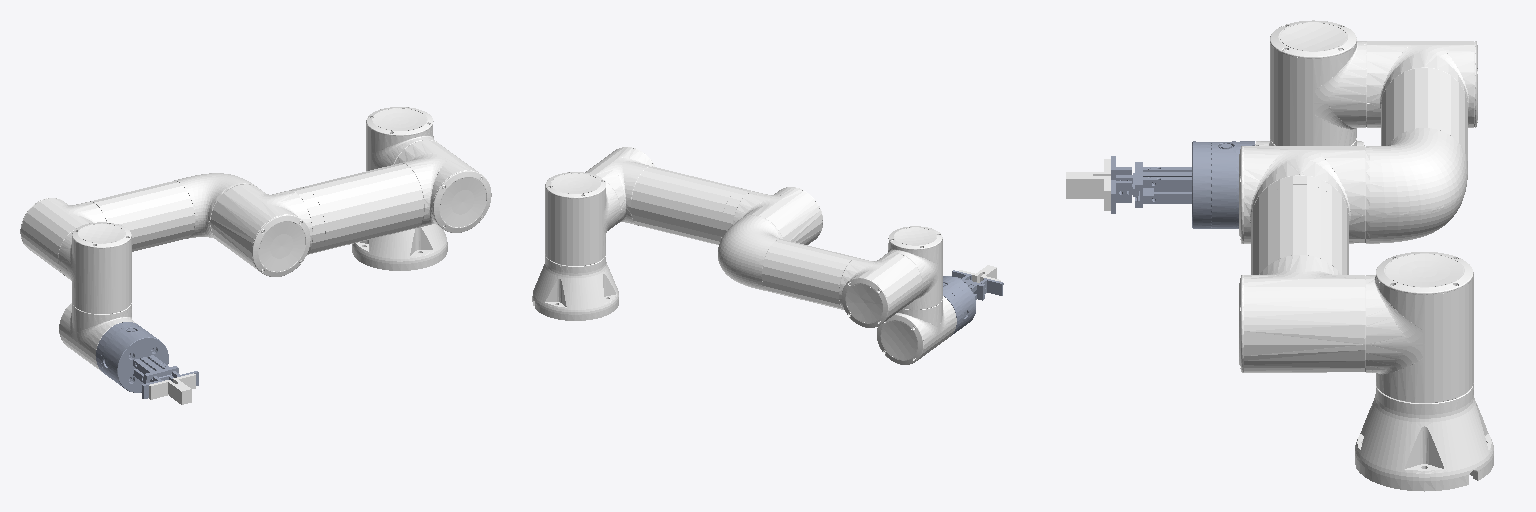
robot.urdf — fairino_arm_moveit_descriptions:
<?xml version="1.0" encoding="utf-8"?>
<!-- This URDF was automatically created by SolidWorks to URDF Exporter! Originally created by Stephen Brawner (brawner@gmail.com) 
     Commit Version: 1.6.0-4-g7f85cfe  Build Version: 1.6.7995.38578
     For more information, please see http://wiki.ros.org/sw_urdf_exporter -->
<robot
  name="fairino_arm_moveit_descriptions">

  <link name="world" />
  <joint name="world_joint" type="fixed">
    <parent link="world" />
    <child link = "base_link" />
    <origin xyz="0.0 0.0 0.0" rpy="0.0 0.0 0" />
  </joint>

  <link
    name="base_link">
    <inertial>
      <origin
        xyz="-0.00049027 -0.00045095 0.032527"
        rpy="0 0 0" />
      <mass
        value="0.29035" />
      <inertia
        ixx="0.00051309"
        ixy="4.2426E-06"
        ixz="-3.9414E-06"
        iyy="0.00051293"
        iyz="-3.6087E-06"
        izz="0.00073224" />
    </inertial>
    <visual>
      <origin
        xyz="0 0 0"
        rpy="0 0 0" />
      <geometry>
        <mesh
          filename="package://fairino_arm_moveit_descriptions/meshes/base_link.STL" />
      </geometry>
      <material
        name="">
        <color
          rgba="1 1 1 1" />
      </material>
    </visual>
    <collision>
      <origin
        xyz="0 0 0"
        rpy="0 0 0" />
      <geometry>
        <mesh
          filename="package://fairino_arm_moveit_descriptions/meshes/base_link.STL" />
      </geometry>
    </collision>
  </link>
  <link
    name="shoulder_link">
    <inertial>
      <origin
        xyz="-2.8223E-07 -0.0024164 0.13521"
        rpy="0 0 0" />
      <mass
        value="0.78648" />
      <inertia
        ixx="0.0012306"
        ixy="-1.8019E-08"
        ixz="-4.8572E-09"
        iyy="0.0012007"
        iyz="1.621E-05"
        izz="0.00085665" />
    </inertial>
    <visual>
      <origin
        xyz="0 0 0"
        rpy="0 0 0" />
      <geometry>
        <mesh
          filename="package://fairino_arm_moveit_descriptions/meshes/shoulder_link.STL" />
      </geometry>
      <material
        name="">
        <color
          rgba="1 1 1 1" />
      </material>
    </visual>
    <collision>
      <origin
        xyz="0 0 0"
        rpy="0 0 0" />
      <geometry>
        <mesh
          filename="package://fairino_arm_moveit_descriptions/meshes/shoulder_link.STL" />
      </geometry>
    </collision>
  </link>
  <joint
    name="j1"
    type="revolute">
    <origin
      xyz="0 0 0"
      rpy="0 0 0" />
    <parent
      link="base_link" />
    <child
      link="shoulder_link" />
    <axis
      xyz="0 0 1" />
    <limit
      lower="-3.0543"
      upper="3.0543"
      effort="150"
      velocity="3.15" />
    <calibration
      rising="0"
      falling="0" />
    <dynamics
      damping="0"
      friction="0" />
    <safety_controller
      soft_upper_limit="3.0543"
      soft_lower_limit="-3.0543"
      k_position="15"
      k_velocity="10" />
  </joint>
  <link
    name="upperarm_link">
    <inertial>
      <origin
        xyz="-0.14 -3.2998E-09 0.1117"
        rpy="0 0 0" />
      <mass
        value="2.774" />
      <inertia
        ixx="0.0038584"
        ixy="5.6311E-09"
        ixz="7.0604E-09"
        iyy="0.037026"
        iyz="3.4667E-10"
        izz="0.036047" />
    </inertial>
    <visual>
      <origin
        xyz="0 0 0"
        rpy="0 0 0" />
      <geometry>
        <mesh
          filename="package://fairino_arm_moveit_descriptions/meshes/upperarm_link.STL" />
      </geometry>
      <material
        name="">
        <color
          rgba="1 1 1 1" />
      </material>
    </visual>
    <collision>
      <origin
        xyz="0 0 0"
        rpy="0 0 0" />
      <geometry>
        <mesh
          filename="package://fairino_arm_moveit_descriptions/meshes/upperarm_link.STL" />
      </geometry>
    </collision>
  </link>
  <joint
    name="j2"
    type="revolute">
    <origin
      xyz="0 0 0.14"
      rpy="1.5708 0 0" />
    <parent
      link="shoulder_link" />
    <child
      link="upperarm_link" />
    <axis
      xyz="0 0 1" />
    <limit
      lower="-4.6251"
      upper="1.4835"
      effort="150"
      velocity="3.15" />
    <calibration
      rising="0"
      falling="0" />
    <dynamics
      damping="0"
      friction="0" />
    <safety_controller
      soft_upper_limit="1.4835"
      soft_lower_limit="-4.6251"
      k_position="15"
      k_velocity="10" />
  </joint>
  <link
    name="forearm_link">
    <inertial>
      <origin
        xyz="-0.12829 3.461E-07 0.004504"
        rpy="0 0 0" />
      <mass
        value="1.8066" />
      <inertia
        ixx="0.0018648"
        ixy="-8.4793E-08"
        ixz="-0.00054453"
        iyy="0.016897"
        iyz="5.6265E-09"
        izz="0.01656" />
    </inertial>
    <visual>
      <origin
        xyz="0 0 0"
        rpy="0 0 0" />
      <geometry>
        <mesh
          filename="package://fairino_arm_moveit_descriptions/meshes/forearm_link.STL" />
      </geometry>
      <material
        name="">
        <color
          rgba="1 1 1 1" />
      </material>
    </visual>
    <collision>
      <origin
        xyz="0 0 0"
        rpy="0 0 0" />
      <geometry>
        <mesh
          filename="package://fairino_arm_moveit_descriptions/meshes/forearm_link.STL" />
      </geometry>
    </collision>
  </link>
  <joint
    name="j3"
    type="revolute">
    <origin
      xyz="-0.28 0 0"
      rpy="0 0 0" />
    <parent
      link="upperarm_link" />
    <child
      link="forearm_link" />
    <axis
      xyz="0 0 1" />
    <limit
      lower="-2.8274"
      upper="2.8274"
      effort="150"
      velocity="3.15" />
    <calibration
      rising="0"
      falling="0" />
    <dynamics
      damping="0"
      friction="0" />
    <safety_controller
      soft_upper_limit="2.8274"
      soft_lower_limit="-2.8274"
      k_position="15"
      k_velocity="10" />
  </joint>
  <link
    name="wrist1_link">
    <inertial>
      <origin
        xyz="2.7977E-07 -0.00344 0.098294"
        rpy="0 0 0" />
      <mass
        value="0.59151" />
      <inertia
        ixx="0.0007449"
        ixy="3.5335E-10"
        ixz="1.3551E-08"
        iyy="0.00053793"
        iyz="1.2039E-05"
        izz="0.00070651" />
    </inertial>
    <visual>
      <origin
        xyz="0 0 0"
        rpy="0 0 0" />
      <geometry>
        <mesh
          filename="package://fairino_arm_moveit_descriptions/meshes/wrist1_link.STL" />
      </geometry>
      <material
        name="">
        <color
          rgba="1 1 1 1" />
      </material>
    </visual>
    <collision>
      <origin
        xyz="0 0 0"
        rpy="0 0 0" />
      <geometry>
        <mesh
          filename="package://fairino_arm_moveit_descriptions/meshes/wrist1_link.STL" />
      </geometry>
    </collision>
  </link>
  <joint
    name="j4"
    type="revolute">
    <origin
      xyz="-0.24001 0 0"
      rpy="0 0 0" />
    <parent
      link="forearm_link" />
    <child
      link="wrist1_link" />
    <axis
      xyz="0 0 1" />
    <limit
      lower="-4.6251"
      upper="1.4835"
      effort="28"
      velocity="3.2" />
    <calibration
      rising="0"
      falling="0" />
    <dynamics
      damping="0"
      friction="0" />
    <safety_controller
      soft_upper_limit="1.4835"
      soft_lower_limit="-4.6251"
      k_position="15"
      k_velocity="10" />
  </joint>
  <link
    name="wrist2_link">
    <inertial>
      <origin
        xyz="-2.7639E-07 0.00344 0.098294"
        rpy="0 0 0" />
      <mass
        value="0.59151" />
      <inertia
        ixx="0.0007449"
        ixy="3.5282E-10"
        ixz="-1.3542E-08"
        iyy="0.00053793"
        iyz="-1.2039E-05"
        izz="0.00070651" />
    </inertial>
    <visual>
      <origin
        xyz="0 0 0"
        rpy="0 0 0" />
      <geometry>
        <mesh
          filename="package://fairino_arm_moveit_descriptions/meshes/wrist2_link.STL" />
      </geometry>
      <material
        name="">
        <color
          rgba="1 1 1 1" />
      </material>
    </visual>
    <collision>
      <origin
        xyz="0 0 0"
        rpy="0 0 0" />
      <geometry>
        <mesh
          filename="package://fairino_arm_moveit_descriptions/meshes/wrist2_link.STL" />
      </geometry>
    </collision>
  </link>
  <joint
    name="j5"
    type="revolute">
    <origin
      xyz="0 0 0.102"
      rpy="1.5708 0 0" />
    <parent
      link="wrist1_link" />
    <child
      link="wrist2_link" />
    <axis
      xyz="0 0 1" />
    <limit
      lower="-3.0543"
      upper="3.0543"
      effort="28"
      velocity="3.2" />
    <calibration
      rising="0"
      falling="0" />
    <dynamics
      damping="0"
      friction="0" />
    <safety_controller
      soft_upper_limit="3.0543"
      soft_lower_limit="-3.0543"
      k_position="15"
      k_velocity="10" />
  </joint>
  <link
    name="wrist3_link">
    <inertial>
      <origin
        xyz="3.6559E-05 6.6964E-06 0.095419"
        rpy="0 0 0" />
      <mass
        value="0.42796" />
      <inertia
        ixx="0.00020402"
        ixy="-4.68E-09"
        ixz="-2.1889E-08"
        iyy="0.00020635"
        iyz="5.9176E-08"
        izz="0.00033039" />
    </inertial>
    <visual>
      <origin
        xyz="0 0 0"
        rpy="0 0 0" />
      <geometry>
        <mesh
          filename="package://fairino_arm_moveit_descriptions/meshes/wrist3_link.STL" />
      </geometry>
      <material
        name="">
        <color
          rgba="0.66667 0.69804 0.76863 1" />
      </material>
    </visual>
    <collision>
      <origin
        xyz="0 0 0"
        rpy="0 0 0" />
      <geometry>
        <mesh
          filename="package://fairino_arm_moveit_descriptions/meshes/wrist3_link.STL" />
      </geometry>
    </collision>
  </link>
  <joint
    name="j6"
    type="revolute">
    <origin
      xyz="0 0 0.102"
      rpy="-1.5708 0 0" />
    <parent
      link="wrist2_link" />
    <child
      link="wrist3_link" />
    <axis
      xyz="0 0 1" />
    <limit
      lower="-3.0543"
      upper="3.0543"
      effort="28"
      velocity="3.2" />
    <calibration
      rising="0"
      falling="0" />
    <dynamics
      damping="0"
      friction="0" />
    <safety_controller
      soft_upper_limit="3.0543"
      soft_lower_limit="-3.0543"
      k_position="15"
      k_velocity="10" />
  </joint>
  <link
    name="finger1">
    <inertial>
      <origin
        xyz="0.00067584 0.03547 -5.8981E-06"
        rpy="0 0 0" />
      <mass
        value="0.008826" />
      <inertia
        ixx="1.5494E-06"
        ixy="5.248E-07"
        ixz="3.4585E-09"
        iyy="9.8473E-07"
        iyz="-4.5799E-09"
        izz="1.9457E-06" />
    </inertial>
    <visual>
      <origin
        xyz="0 0 0"
        rpy="0 0 0" />
      <geometry>
        <mesh
          filename="package://fairino_arm_moveit_descriptions/meshes/finger1.STL" />
      </geometry>
      <material
        name="">
        <color
          rgba="1 1 1 1" />
      </material>
    </visual>
    <collision>
      <origin
        xyz="0 0 0"
        rpy="0 0 0" />
      <geometry>
        <mesh
          filename="package://fairino_arm_moveit_descriptions/meshes/finger1.STL" />
      </geometry>
    </collision>
  </link>
  <joint
    name="finger1_joint"
    type="prismatic">
    <origin
      xyz="-0.0099996 -8.7262E-05 0.1658"
      rpy="1.5708 0 3.1416" />
    <parent
      link="wrist3_link" />
    <child
      link="finger1" />
    <axis
      xyz="0.99996 0 -0.0087267" />
    <limit
      lower="0.0"
      upper="0.0305"
      effort="150"
      velocity="3.2" />
  </joint>
  <link
    name="finger2">
    <inertial>
      <origin
        xyz="-0.00067584 0.03547 5.8981E-06"
        rpy="0 0 0" />
      <mass
        value="0.008826" />
      <inertia
        ixx="1.5494E-06"
        ixy="-5.248E-07"
        ixz="3.4585E-09"
        iyy="9.8473E-07"
        iyz="4.5799E-09"
        izz="1.9457E-06" />
    </inertial>
    <visual>
      <origin
        xyz="0 0 0"
        rpy="0 0 0" />
      <geometry>
        <mesh
          filename="package://fairino_arm_moveit_descriptions/meshes/finger2.STL" />
      </geometry>
      <material
        name="">
        <color
          rgba="1 1 1 1" />
      </material>
    </visual>
    <collision>
      <origin
        xyz="0 0 0"
        rpy="0 0 0" />
      <geometry>
        <mesh
          filename="package://fairino_arm_moveit_descriptions/meshes/finger2.STL" />
      </geometry>
    </collision>
  </link>
  <joint
    name="finger2_joint"
    type="prismatic">
    <origin
      xyz="0.0099996 8.7271E-05 0.1658"
      rpy="1.5708 0 3.1416" />
    <parent
      link="wrist3_link" />
    <child
      link="finger2" />
    <axis
      xyz="0.99996 0 -0.0087267" />
    <limit
      lower="-0.0305"
      upper="0"
      effort="150"
      velocity="3.2" />
  </joint>

  <!-- Grasp frame at the center of the gripper -->
  <link name="grasp_frame"/>

  <joint name="wrist3_to_grasp_frame" type="fixed">
    <parent link="wrist3_link"/>
    <child link="grasp_frame"/>
    <!-- midpoint between finger1_joint and finger2_joint origins -->
    <origin xyz="0 0 0.2168" rpy="0 0 0"/>
    <!-- <origin xyz="0 0 0.1668" rpy="0 0 0"/> -->
  </joint>

  <!-- <link name="calibration_marker"/>
  <joint name="wrist3_to_calibration_marker" type="fixed">
    <parent link="wrist3_link"/>
    <child link="calibration_marker"/>
    <origin xyz="4.8765E-05 -0.011601 0.1636" rpy="0 0 0"/>
  </joint> -->
</robot>

--- Facts derived from the render (not from the file) ---
3 views of the same robot in one strip: view 1: azimuth 30°, elevation 25°; view 2: azimuth 150°, elevation 25°; view 3: azimuth 270°, elevation 25° (orthographic).
Model fairino_arm_moveit_descriptions with 11 links and 10 joints (6 revolute, 2 prismatic, 2 fixed), rooted at world, posed all joints at 0.
Links seen in each view (by area): view 1: upperarm_link, forearm_link, wrist1_link, wrist3_link, base_link, shoulder_link, wrist2_link, finger1; view 2: forearm_link, upperarm_link, shoulder_link, base_link, wrist2_link, wrist1_link, wrist3_link; view 3: upperarm_link, forearm_link, shoulder_link, wrist1_link, base_link, wrist3_link, finger2.
Boxes of the visible links, bbox=[...] form: upperarm_link: bbox=[210, 140, 491, 276]; forearm_link: bbox=[20, 173, 256, 275]; wrist1_link: bbox=[58, 222, 131, 313]; wrist3_link: bbox=[96, 322, 198, 398]; base_link: bbox=[352, 224, 447, 270]; shoulder_link: bbox=[366, 107, 440, 170]; wrist2_link: bbox=[59, 303, 136, 371]; finger1: bbox=[149, 380, 186, 404]; forearm_link: bbox=[718, 215, 921, 327]; upperarm_link: bbox=[585, 147, 822, 244]; shoulder_link: bbox=[545, 172, 619, 265]; base_link: bbox=[532, 254, 618, 320]; wrist2_link: bbox=[877, 296, 956, 364]; wrist1_link: bbox=[884, 226, 942, 309]; wrist3_link: bbox=[943, 270, 1003, 335]; upperarm_link: bbox=[1239, 146, 1365, 372]; forearm_link: bbox=[1366, 41, 1477, 243]; shoulder_link: bbox=[1366, 252, 1473, 402]; wrist1_link: bbox=[1270, 20, 1366, 145]; base_link: bbox=[1355, 383, 1493, 491]; wrist3_link: bbox=[1111, 141, 1254, 228]; finger2: bbox=[1066, 175, 1110, 210].
Bounding box of the posed robot: 0.6266 × 0.3933 × 0.196 m (x, y, z).
Meshes: 9 distinct files referenced, 9 mesh visuals loaded (9 binary STL).
